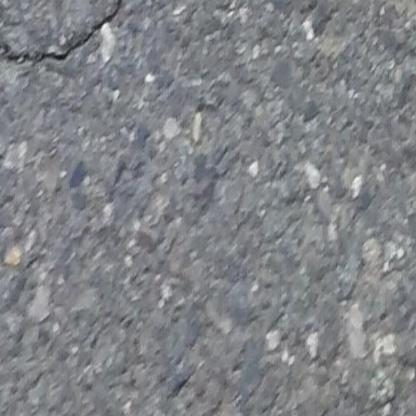Cracks: (0, 0, 150, 72), (300, 0, 416, 6)
